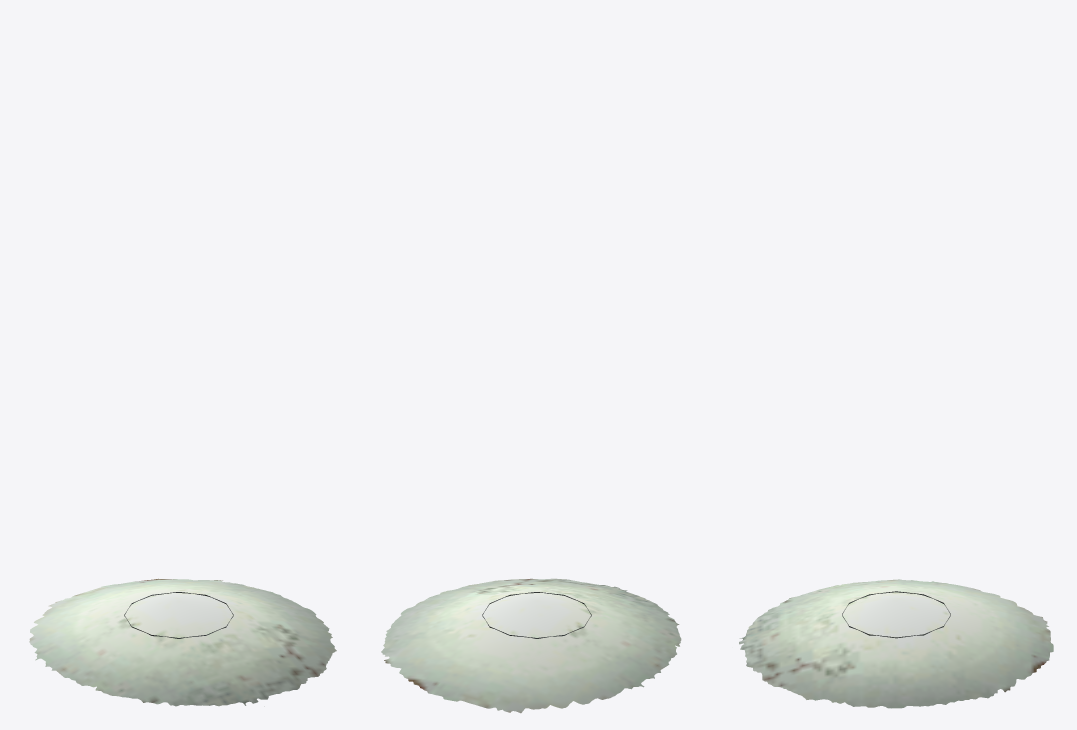
The model's file is WaresLight.FBX.
3 views of the same model, side by side, from view 1: azimuth 30°, elevation 25°; view 2: azimuth 150°, elevation 25°; view 3: azimuth 270°, elevation 25° (orthographic).
Visible parts, largest first — view 1: WaresLight; view 2: WaresLight; view 3: WaresLight.
Part boxes in pixels (x1,y1,x2,y2): WaresLight: (29, 578, 336, 706); WaresLight: (381, 578, 681, 713); WaresLight: (739, 579, 1053, 708).
Size of the model in its own units: 34.51 by 73.53 by 34.51.
